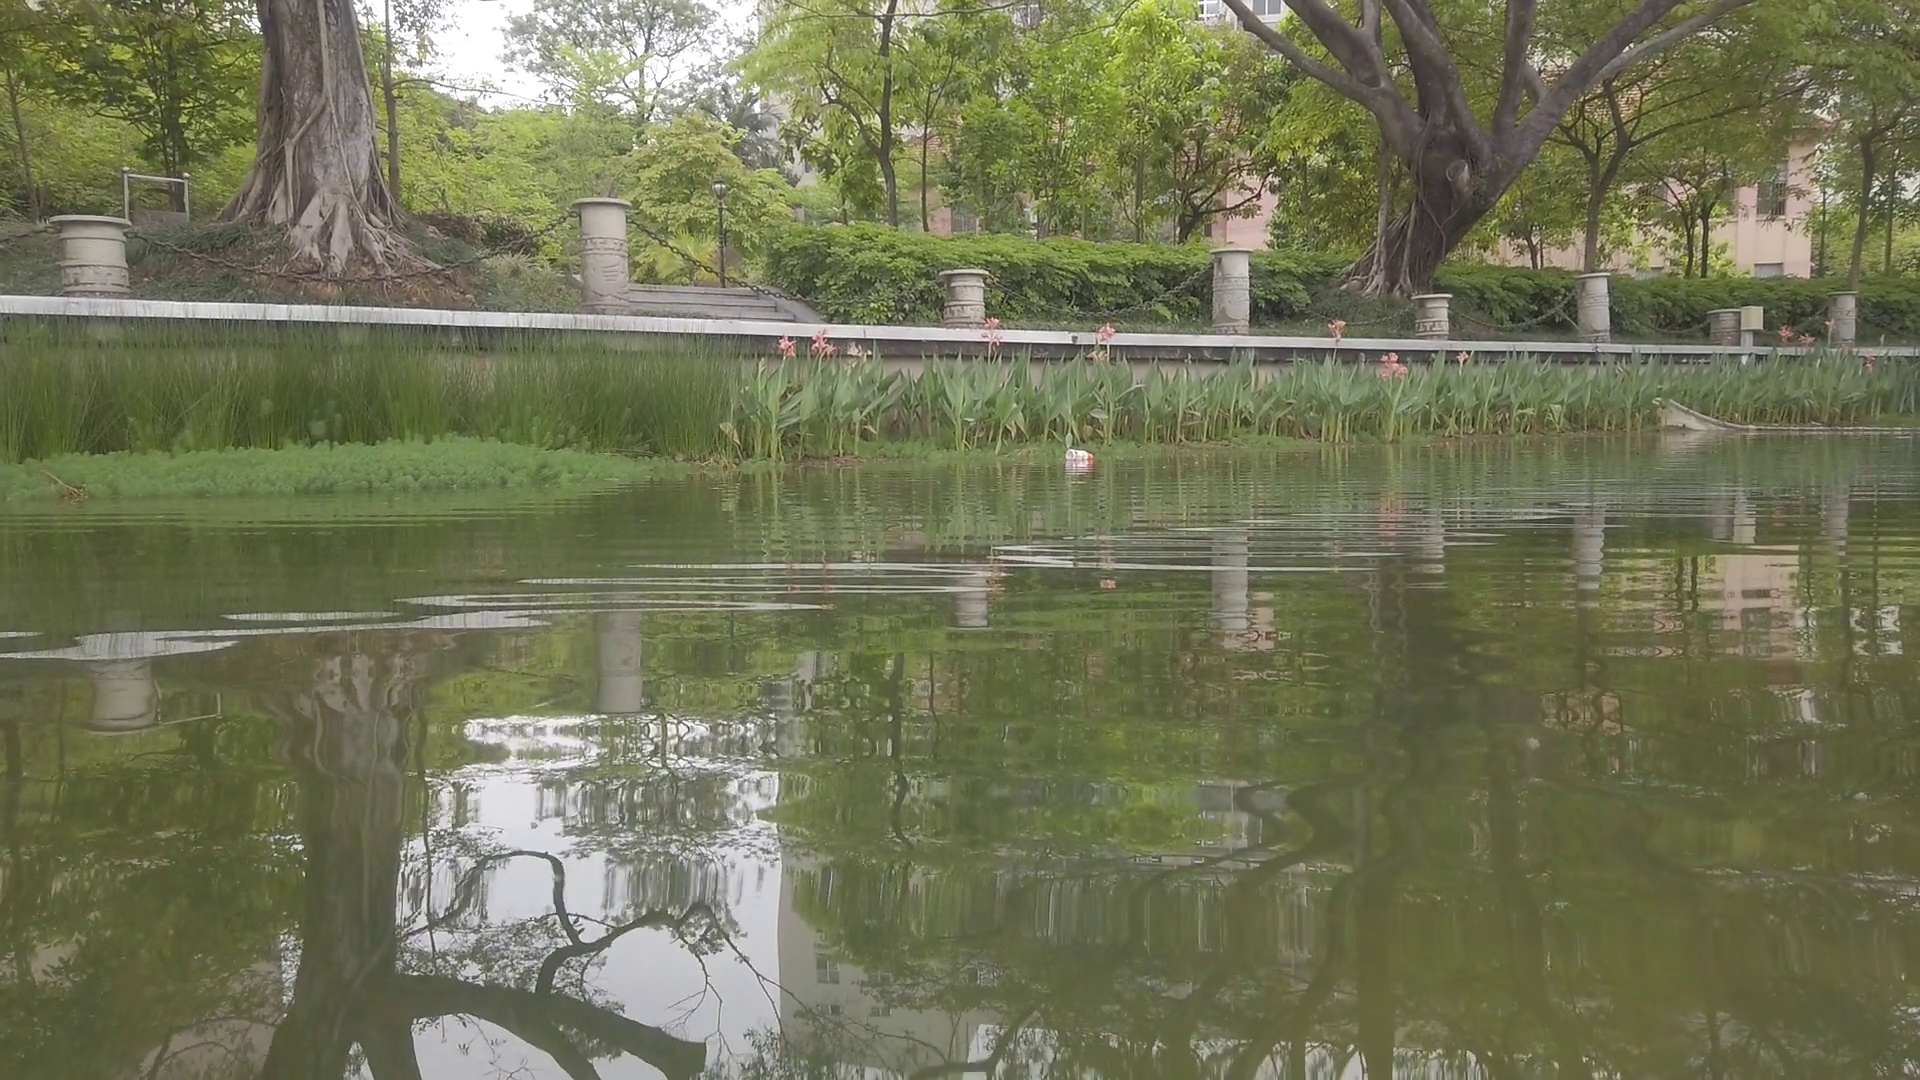bottle: (1064, 448, 1093, 460)
